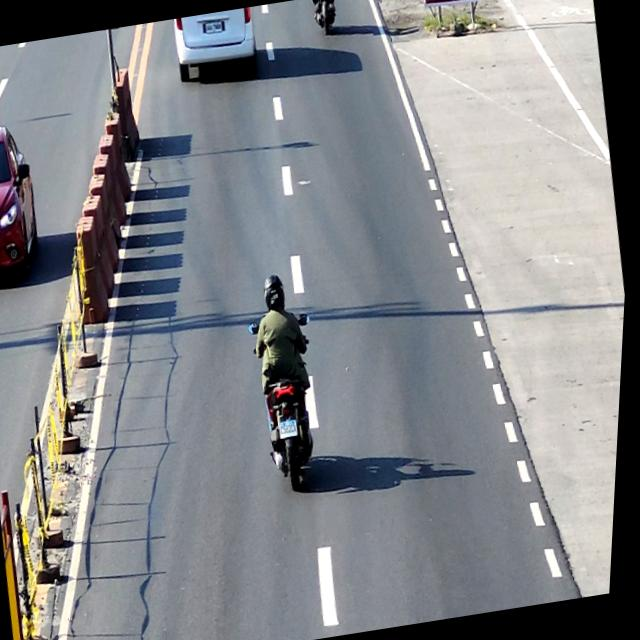Car: (0, 119, 52, 285), (171, 6, 263, 86)
License-Plate: (283, 421, 303, 438), (206, 22, 223, 34)
Motorcycle: (244, 311, 339, 494), (312, 0, 341, 36)
